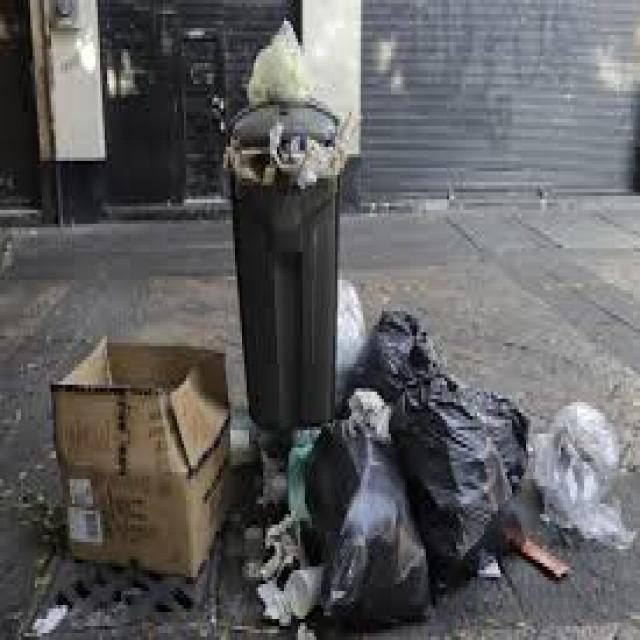garbage: (242, 306, 628, 640), (40, 326, 238, 582), (218, 13, 360, 192)
